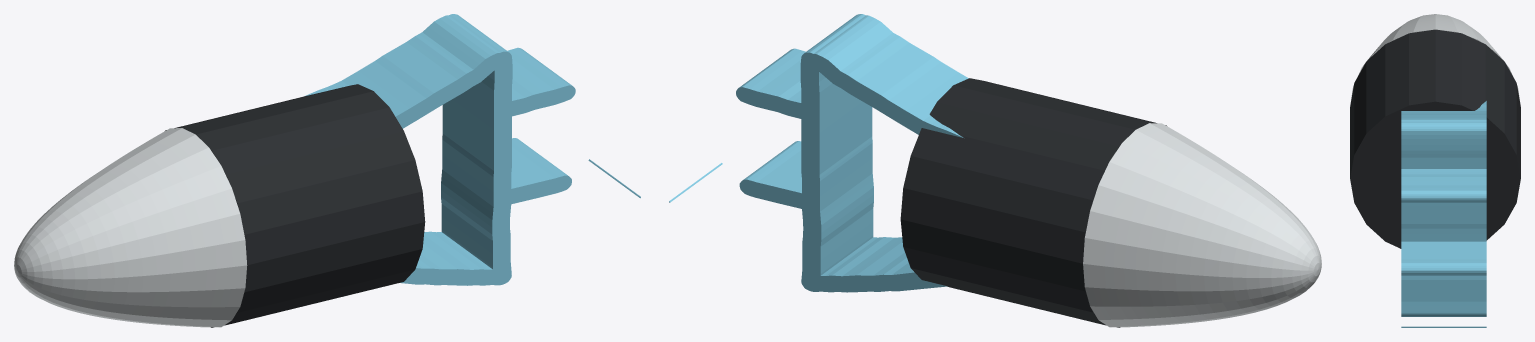
The model's file is tinker.obj.
3 renders of one model, left to right at view 1: azimuth 30°, elevation 25°; view 2: azimuth 150°, elevation 25°; view 3: azimuth 270°, elevation 25°, orthographic. The views are drawn at different scales.
Parts seen in each view (by area): view 1: obj_1, obj_0, obj_2; view 2: obj_1, obj_0, obj_2; view 3: obj_1, obj_2, obj_0.
Boxes of the visible parts, x1,y1,x2,y2 form: obj_1: (165, 84, 425, 327); obj_0: (14, 128, 247, 327); obj_2: (305, 14, 640, 285); obj_1: (900, 78, 1166, 327); obj_0: (1083, 123, 1321, 327); obj_2: (669, 14, 968, 292); obj_1: (1350, 29, 1520, 248); obj_2: (1401, 101, 1486, 327); obj_0: (1350, 14, 1520, 102).
Size of the model in its own units: 67.69 by 25 by 20.
